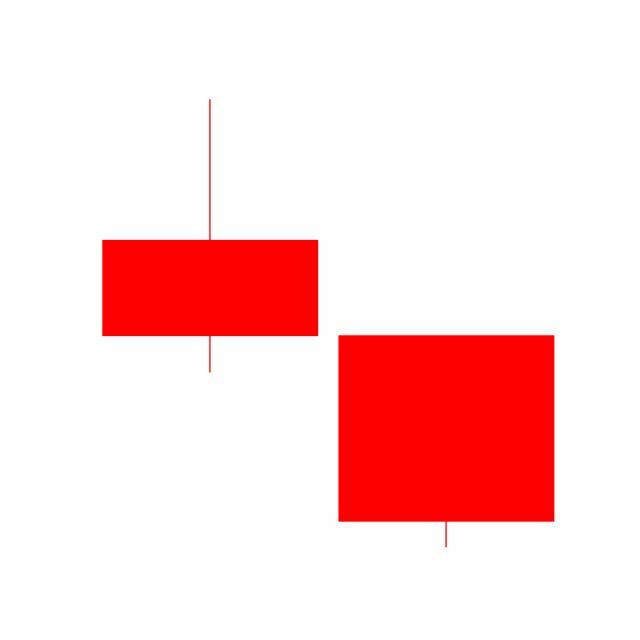Marubozu: (328, 333, 566, 550)
